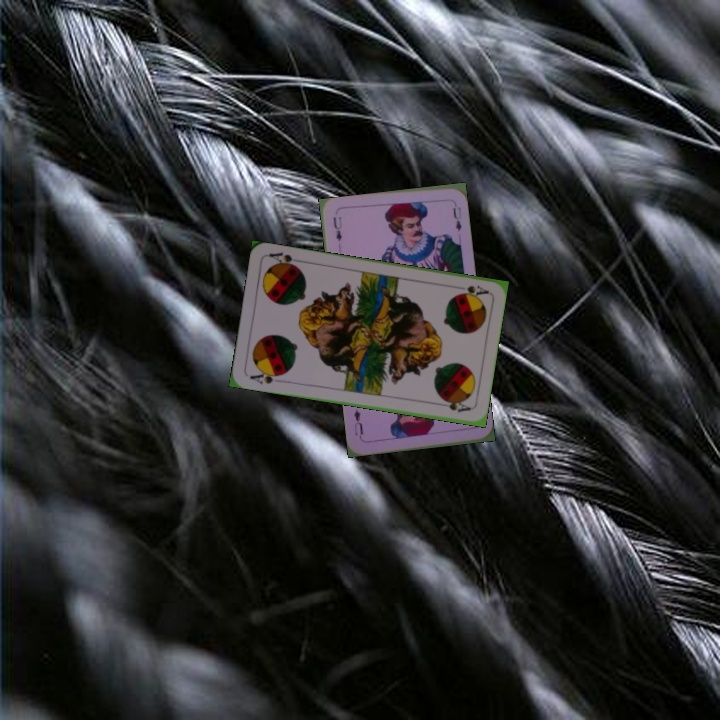EU: (329, 213, 344, 244)
SA: (246, 367, 286, 386), (454, 281, 491, 299)
